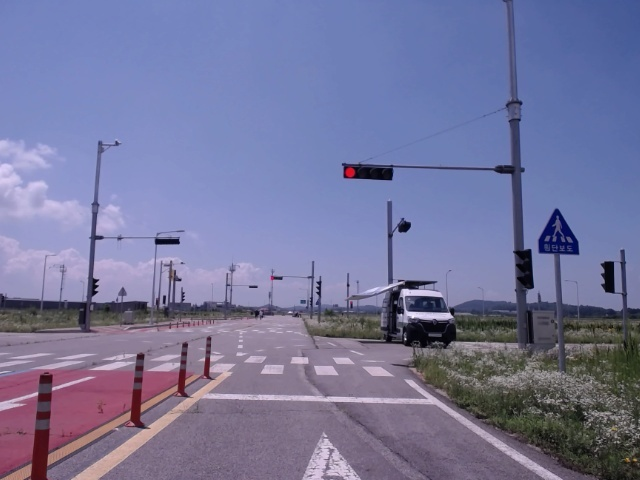red_4: (344, 166, 392, 180)
